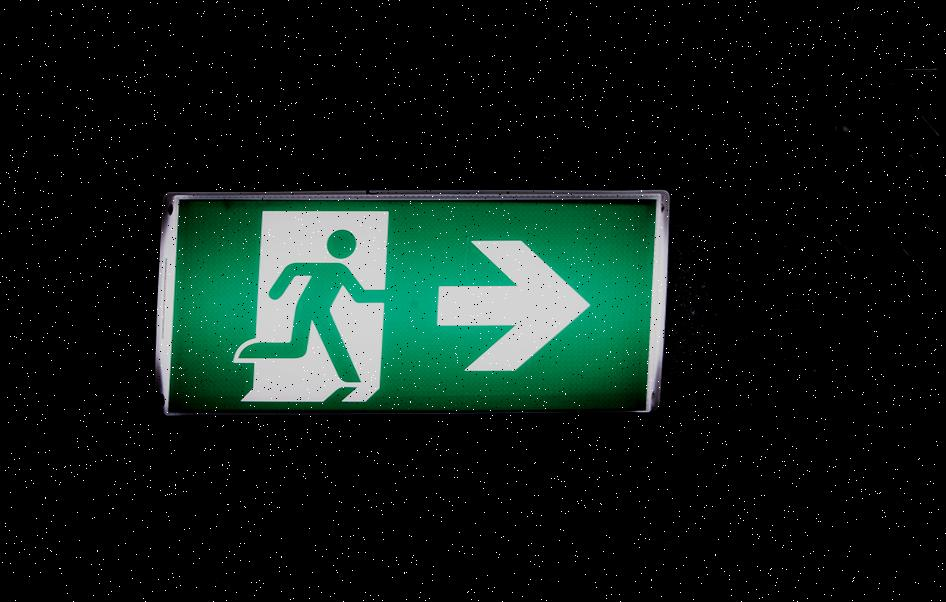emergency_exit: (155, 188, 670, 417)
